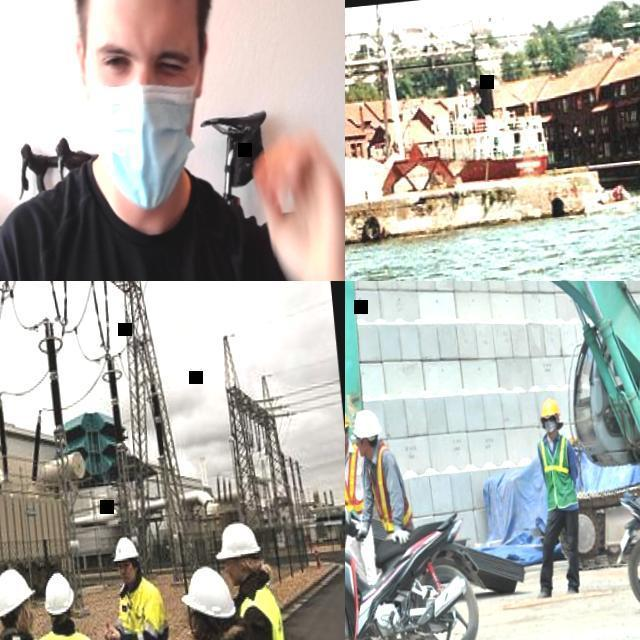helmet: (177, 564, 238, 628), (212, 518, 262, 565), (0, 563, 36, 620), (41, 570, 74, 622), (350, 410, 380, 438), (108, 534, 136, 560), (540, 399, 560, 419)
